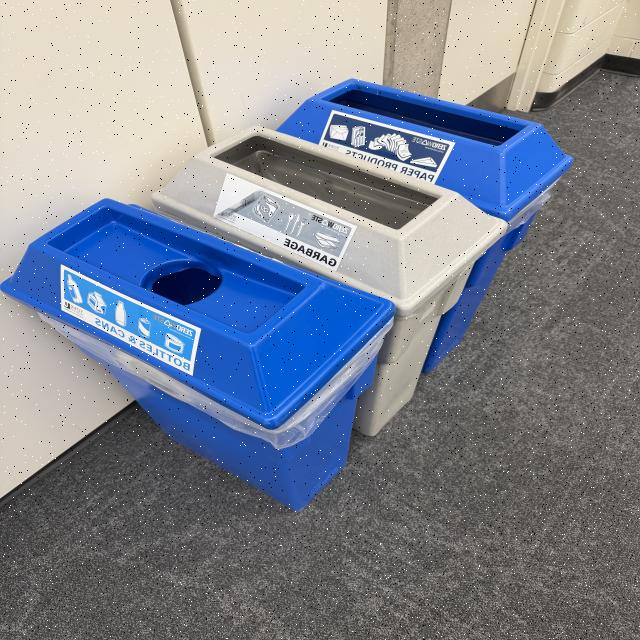Dustbin: (0, 79, 571, 513)
